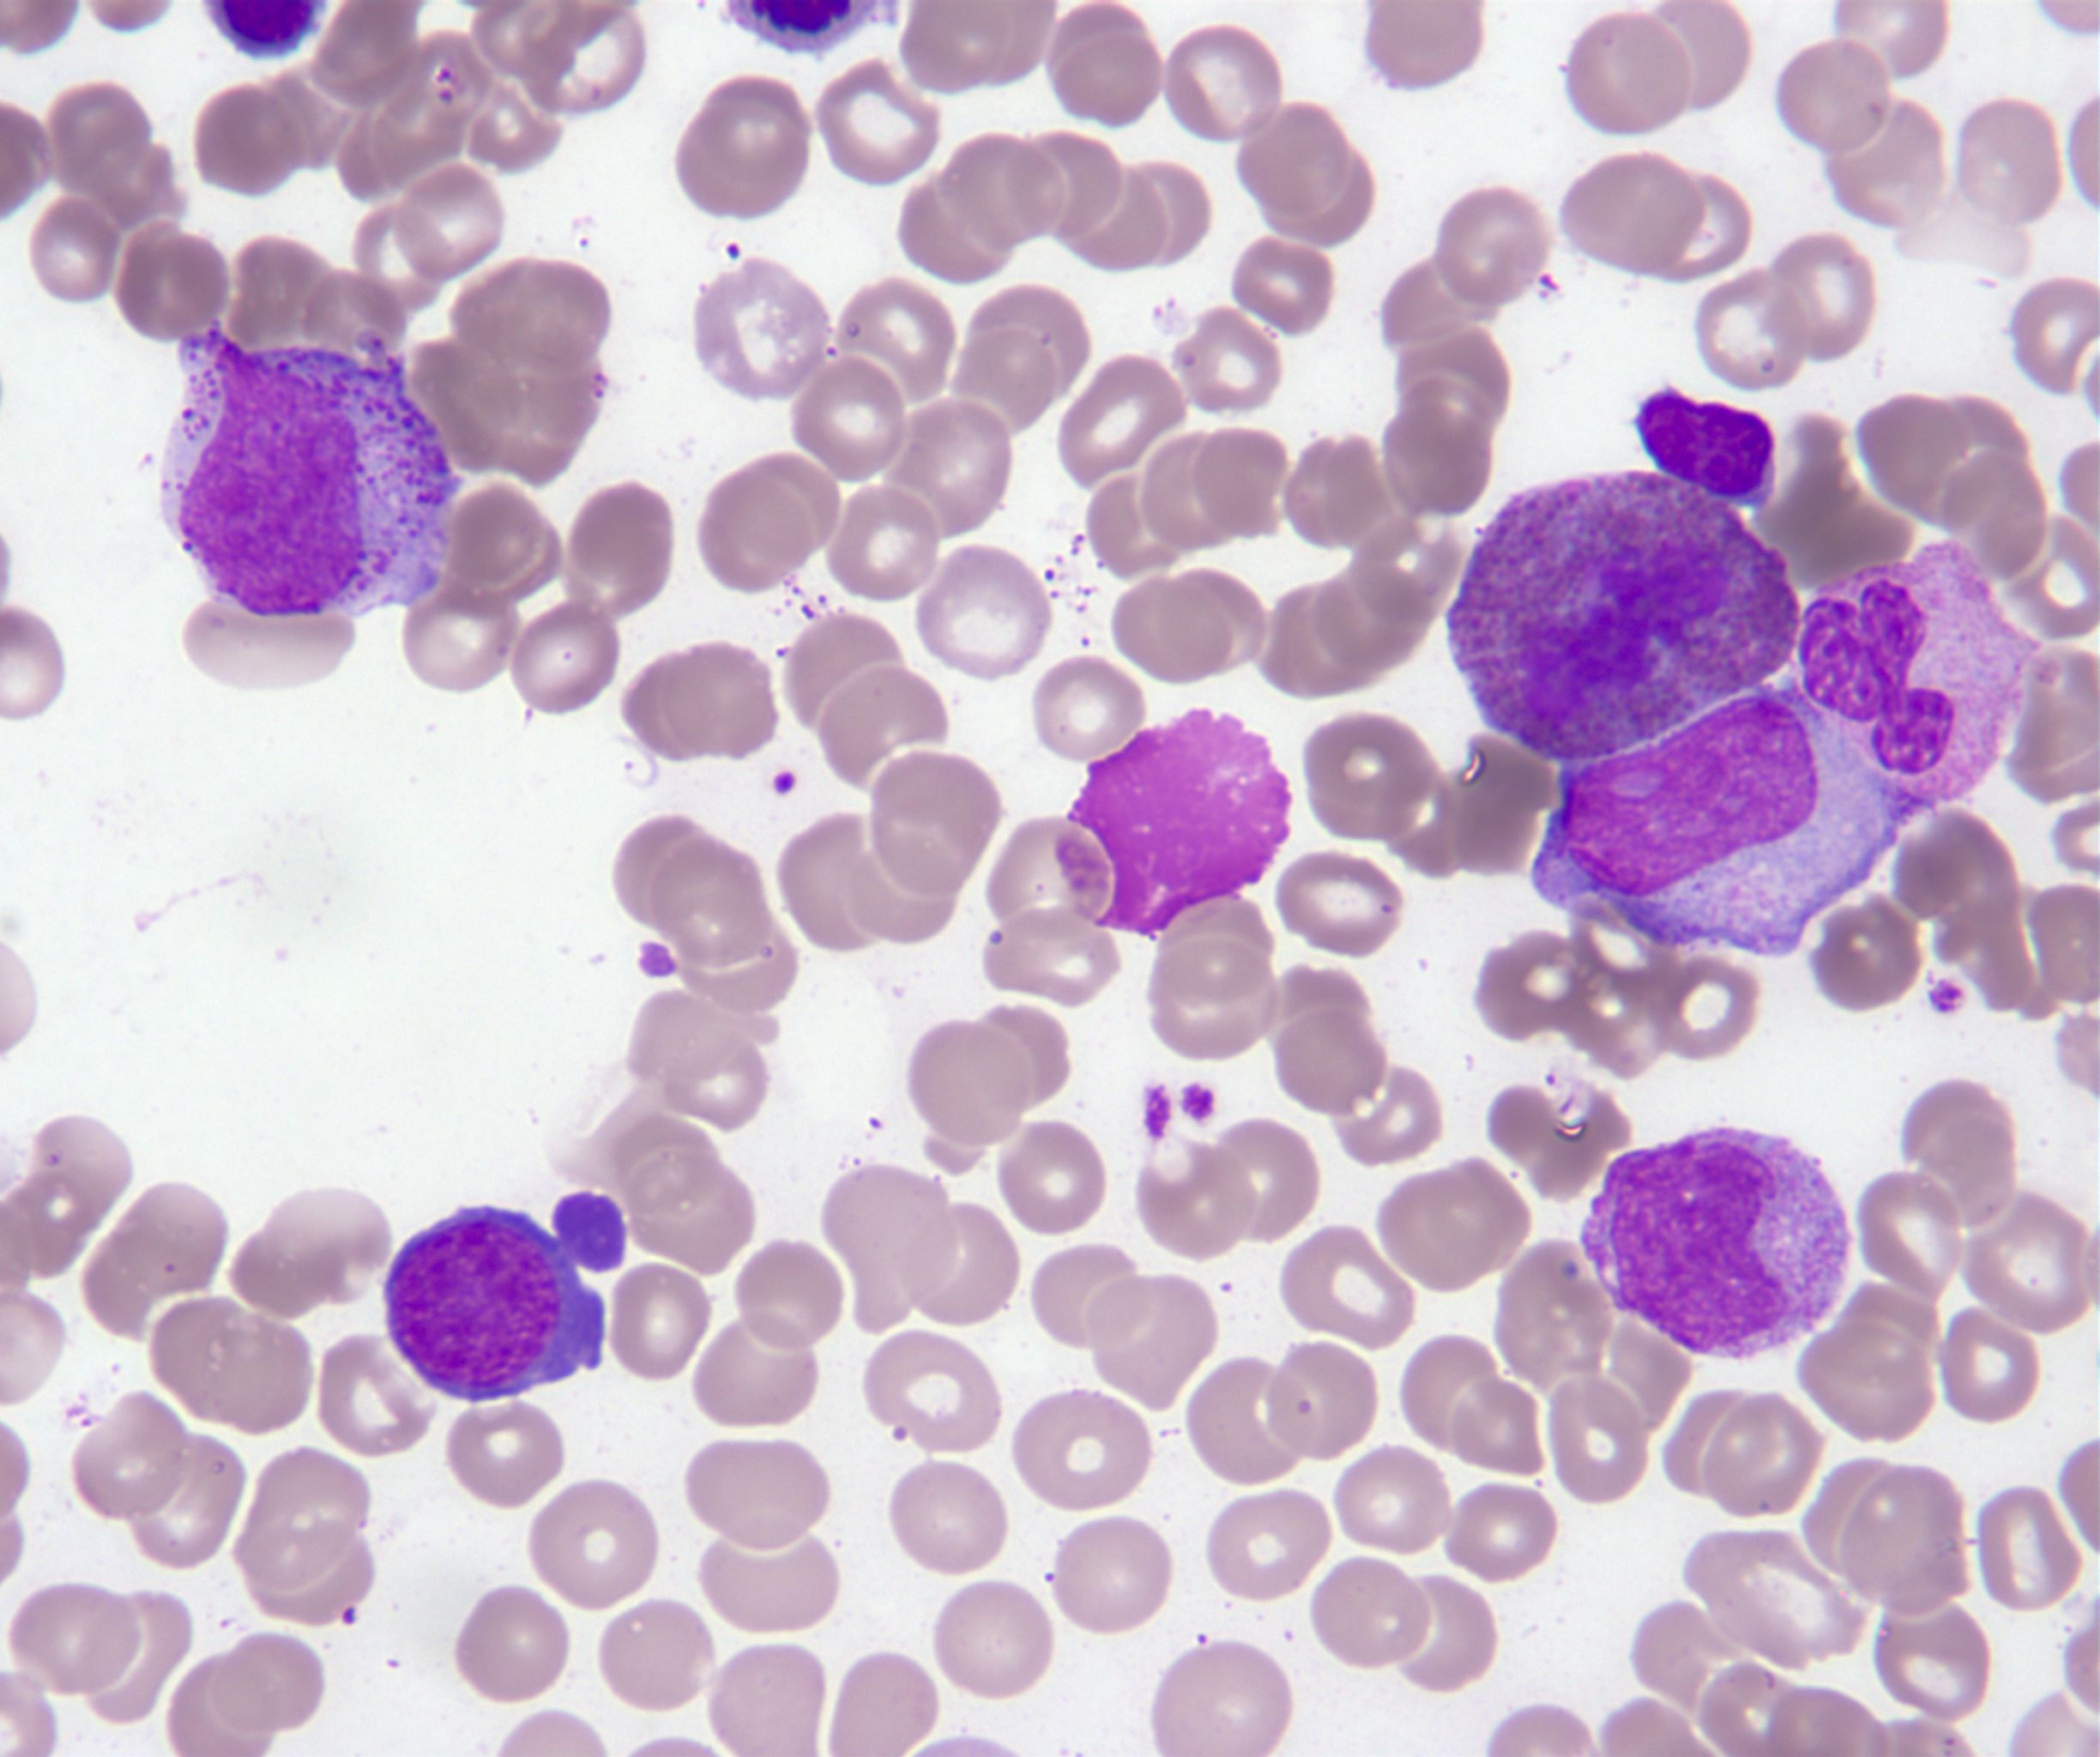2: (1530, 682, 1917, 954), (159, 330, 464, 619)
22: (385, 1192, 628, 1401)
32: (1633, 391, 1777, 508)
42: (1582, 1127, 1849, 1359)
6: (1795, 541, 2041, 804)
E3: (1449, 471, 1797, 761)
x: (1057, 710, 1291, 935)
